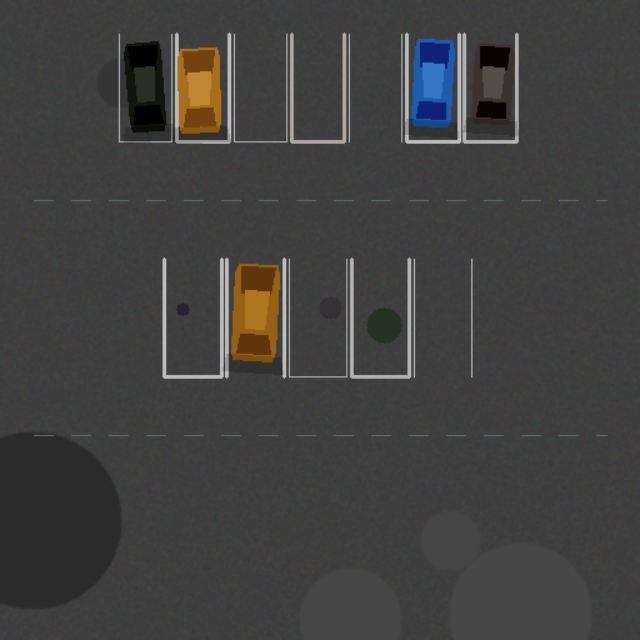space-empty: (351, 259, 409, 376), (164, 259, 221, 376), (289, 259, 346, 376), (414, 259, 471, 376), (291, 34, 344, 141), (234, 34, 286, 141), (349, 34, 401, 141)
space-occupied: (226, 259, 284, 376), (176, 34, 229, 141), (406, 34, 459, 141), (119, 34, 171, 141), (464, 34, 516, 141)
